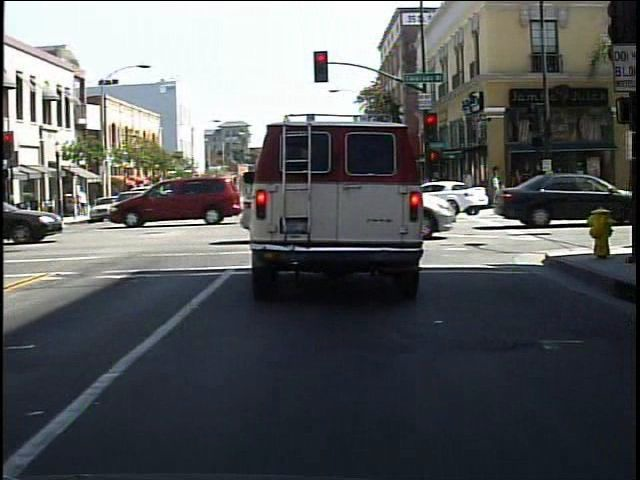person: (529, 158, 549, 208), (509, 164, 529, 208)
